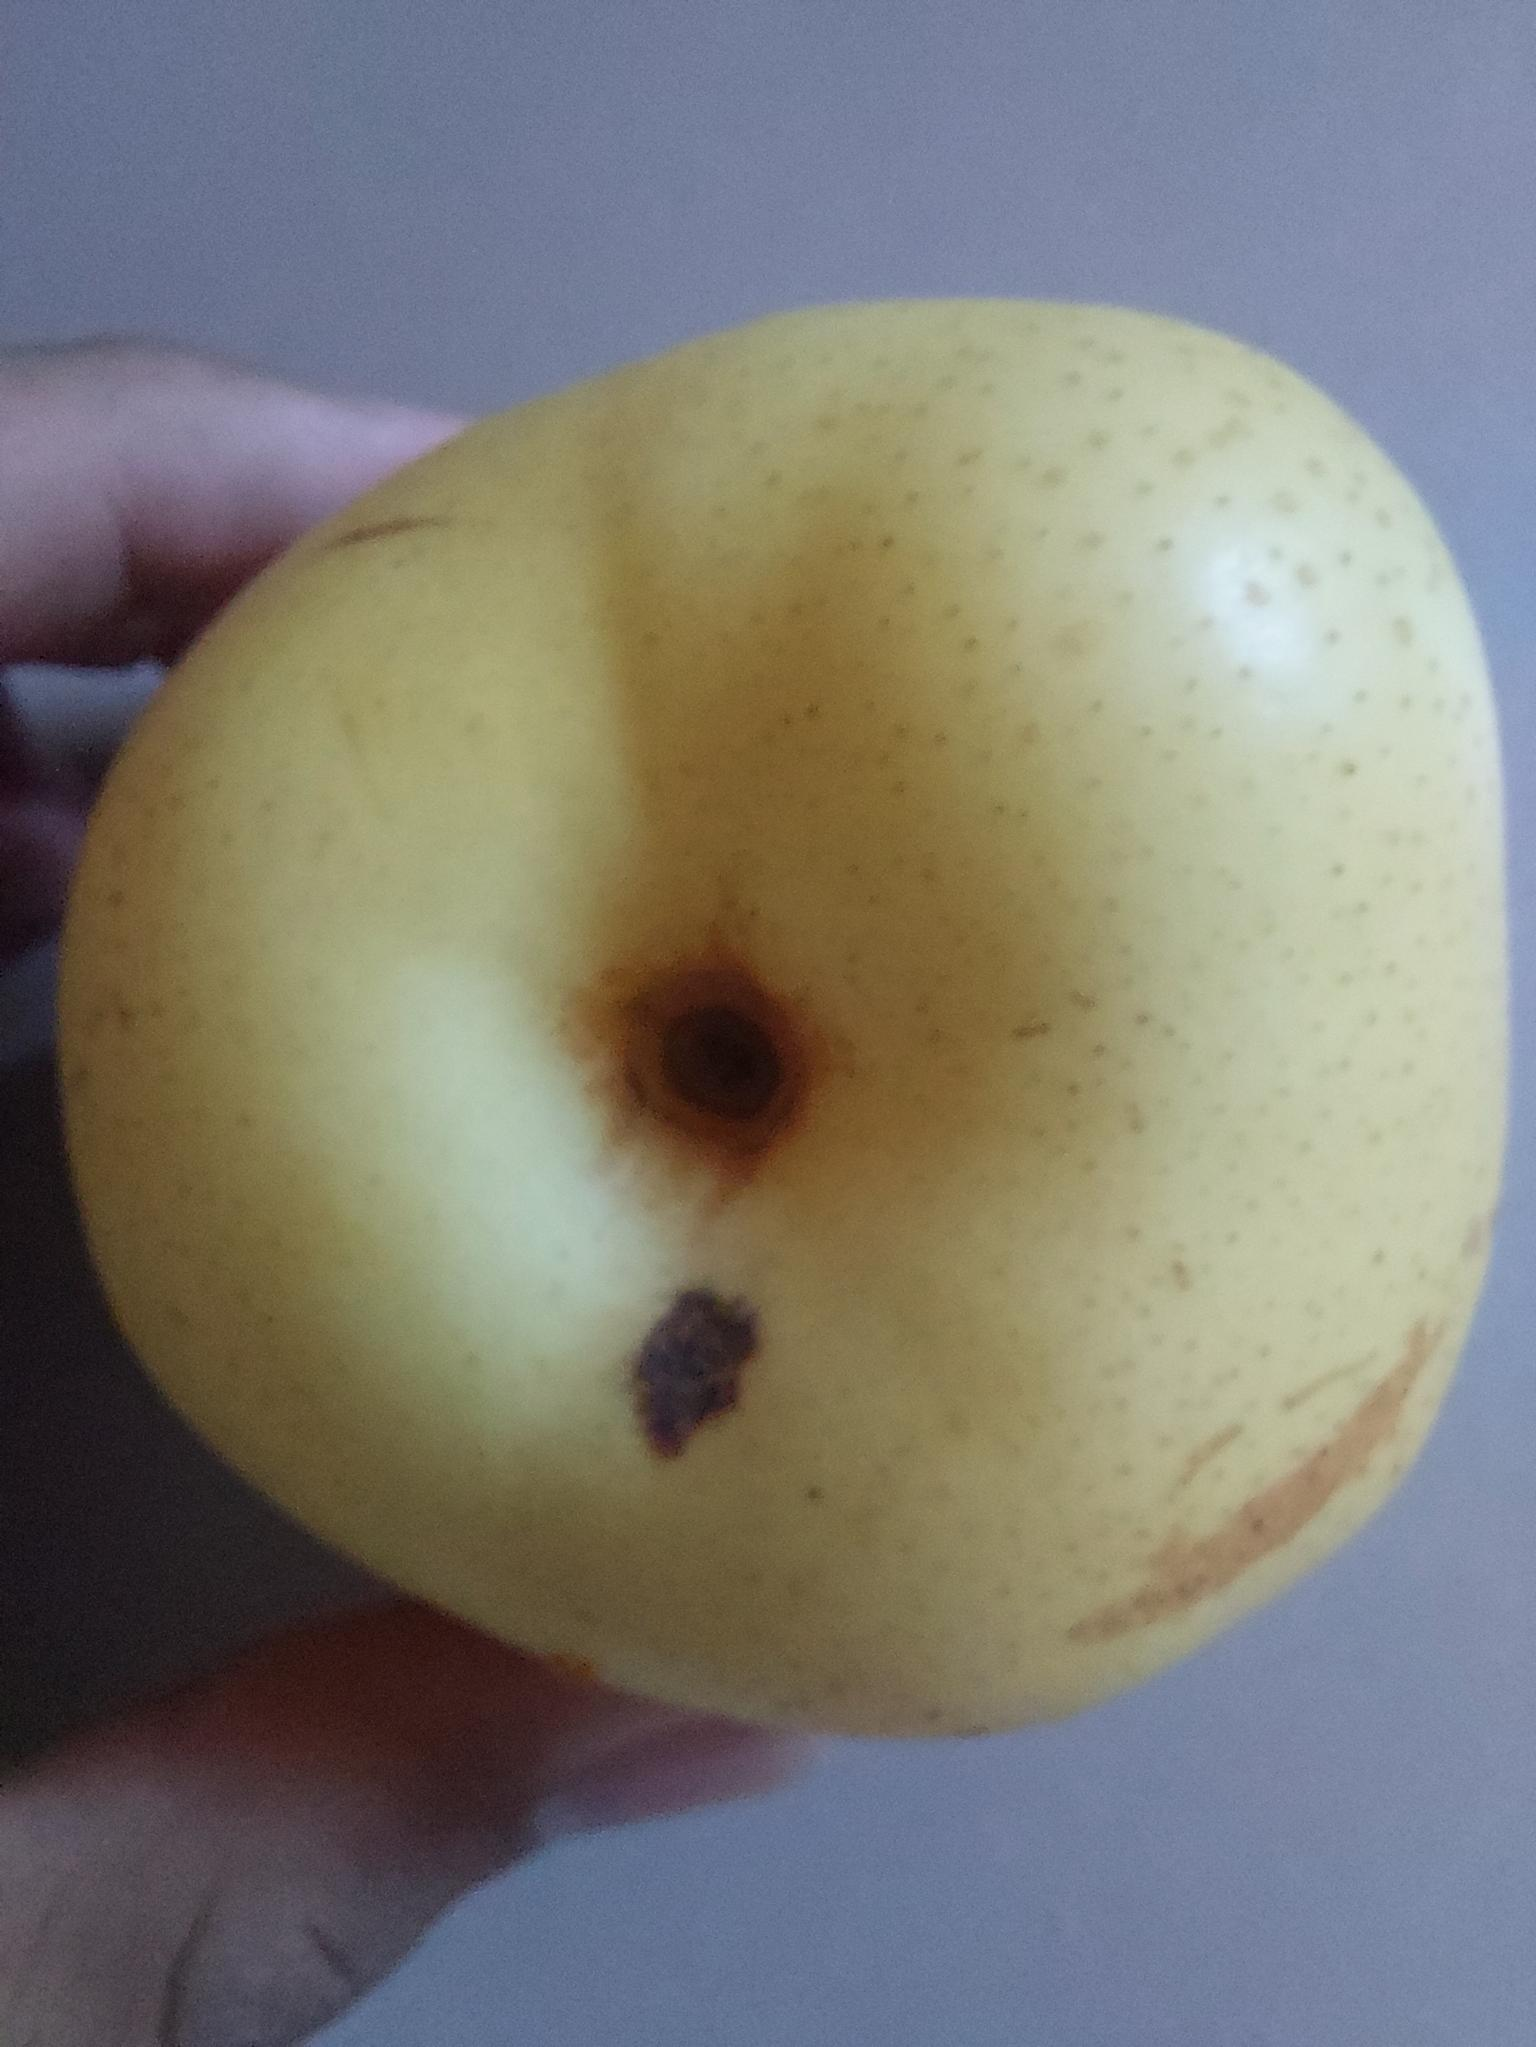Good Pear: (52, 296, 1514, 1740)
